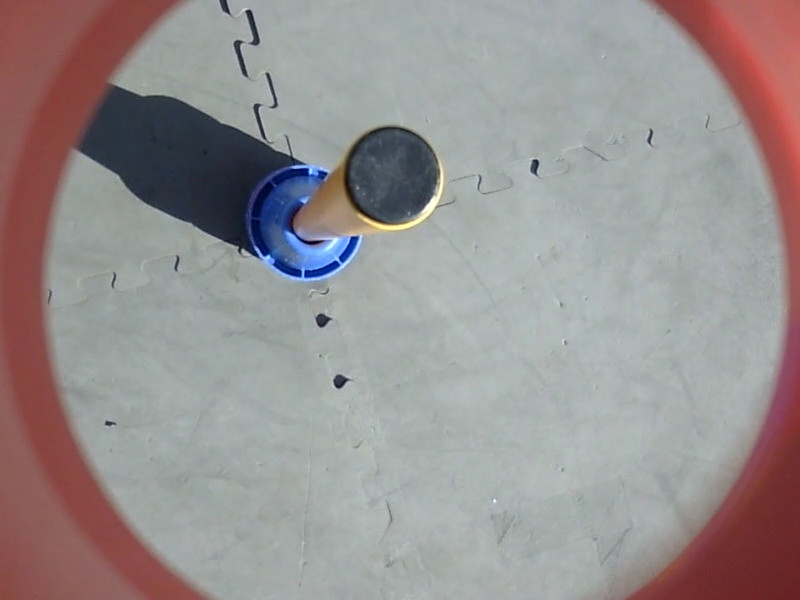tip: (337, 121, 449, 236)
